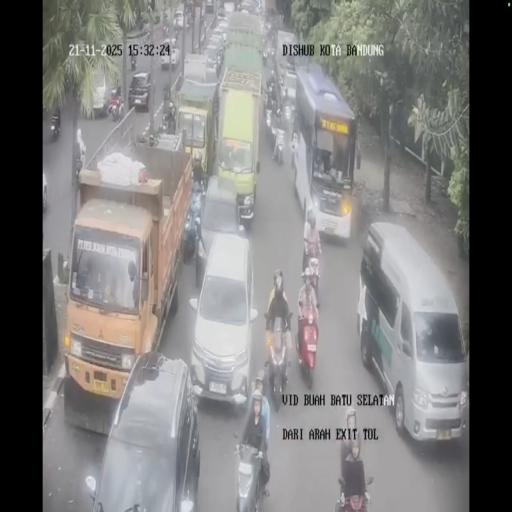car: (90, 352, 200, 508), (196, 174, 243, 282), (88, 75, 110, 119), (279, 70, 297, 122), (128, 72, 151, 112), (203, 40, 225, 79), (160, 39, 180, 70), (214, 17, 230, 41), (173, 8, 184, 28), (239, 0, 253, 13), (218, 3, 228, 18), (206, 0, 214, 14)
motorcycle: (263, 322, 291, 408), (296, 304, 319, 386), (182, 181, 202, 267), (335, 468, 373, 510), (302, 257, 320, 310), (271, 124, 285, 165), (162, 95, 176, 130), (110, 94, 124, 121), (266, 107, 272, 138), (130, 47, 137, 70), (162, 16, 170, 36), (262, 42, 268, 66), (142, 27, 150, 43), (185, 12, 192, 30)
truck: (291, 62, 357, 242), (174, 77, 217, 178), (221, 9, 264, 83)
